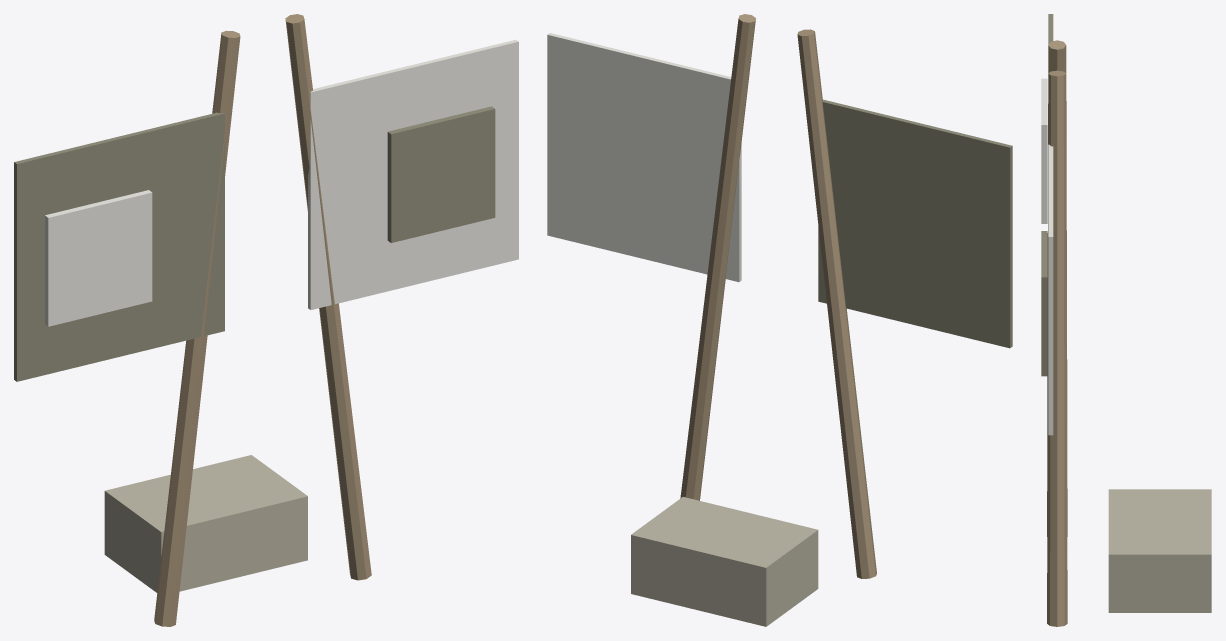
The model's file is trench-line-1917-signal-flags-668f15b7__24111.glb.
3 renders of one model, left to right at view 1: azimuth 30°, elevation 25°; view 2: azimuth 150°, elevation 25°; view 3: azimuth 270°, elevation 25°, orthographic. The views are drawn at different scales.
Visible parts, largest first — view 1: signal-flags; view 2: signal-flags; view 3: signal-flags.
Boxes of the visible parts, bbox=[...] form: signal-flags: bbox=[14, 14, 518, 626]; signal-flags: bbox=[547, 14, 1012, 626]; signal-flags: bbox=[1041, 14, 1211, 626].
Bounding box in the file's own units: 0.82 × 0.8971 × 0.265.
